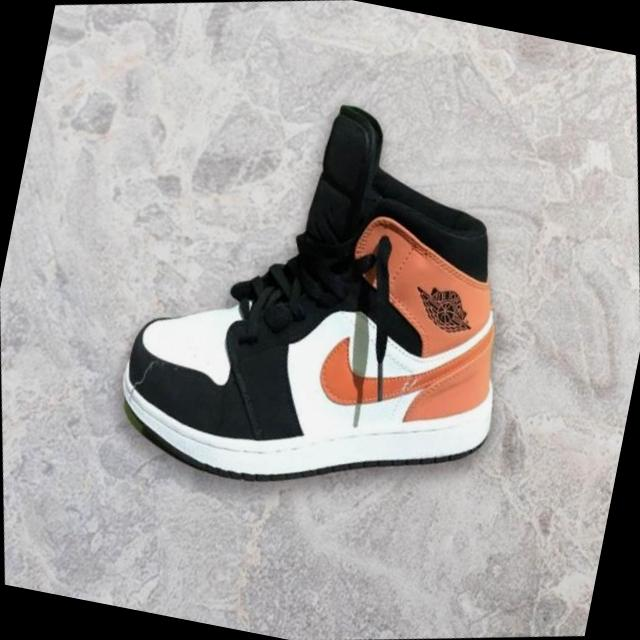nike_fake_jordan: (50, 31, 567, 554)
